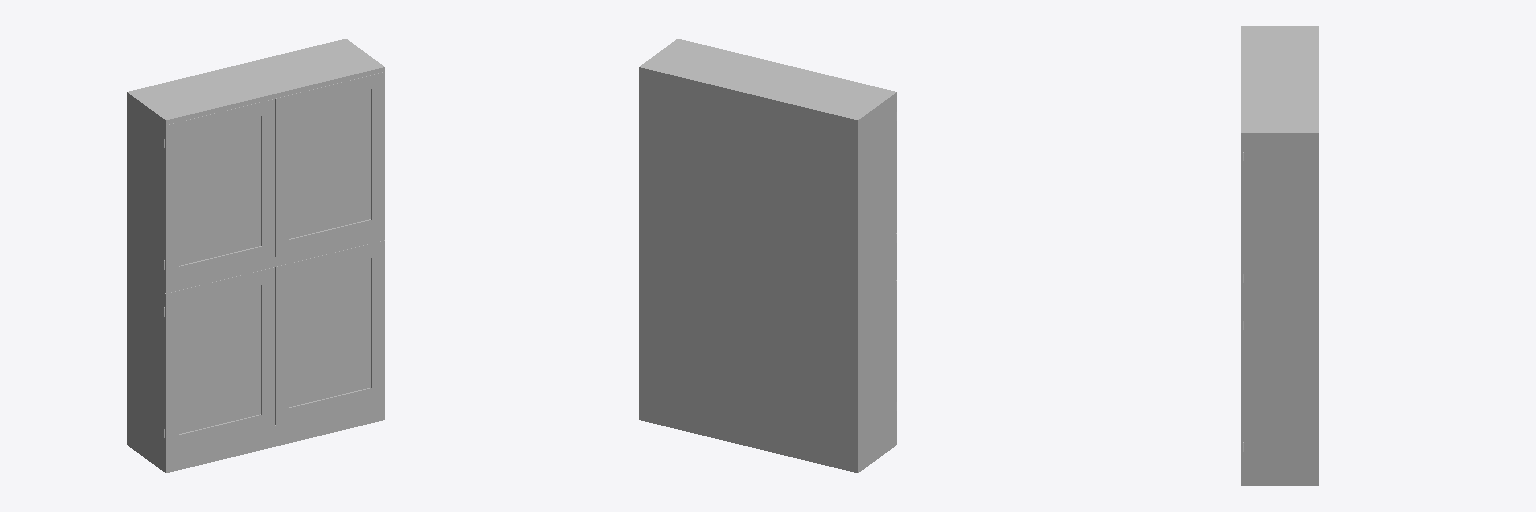
File: glass_cabinet.obj
3 renders of one model, left to right at view 1: azimuth 30°, elevation 25°; view 2: azimuth 150°, elevation 25°; view 3: azimuth 270°, elevation 25°, orthographic.
Parts seen in each view (by area): view 1: case; view 2: case; view 3: case.
Boxes of the visible parts, <box> form: case: <box>127,39,384,472</box>; case: <box>639,39,896,472</box>; case: <box>1241,26,1318,485</box>.
Bounding box in the file's own units: 17.24 × 26.27 × 5.25.